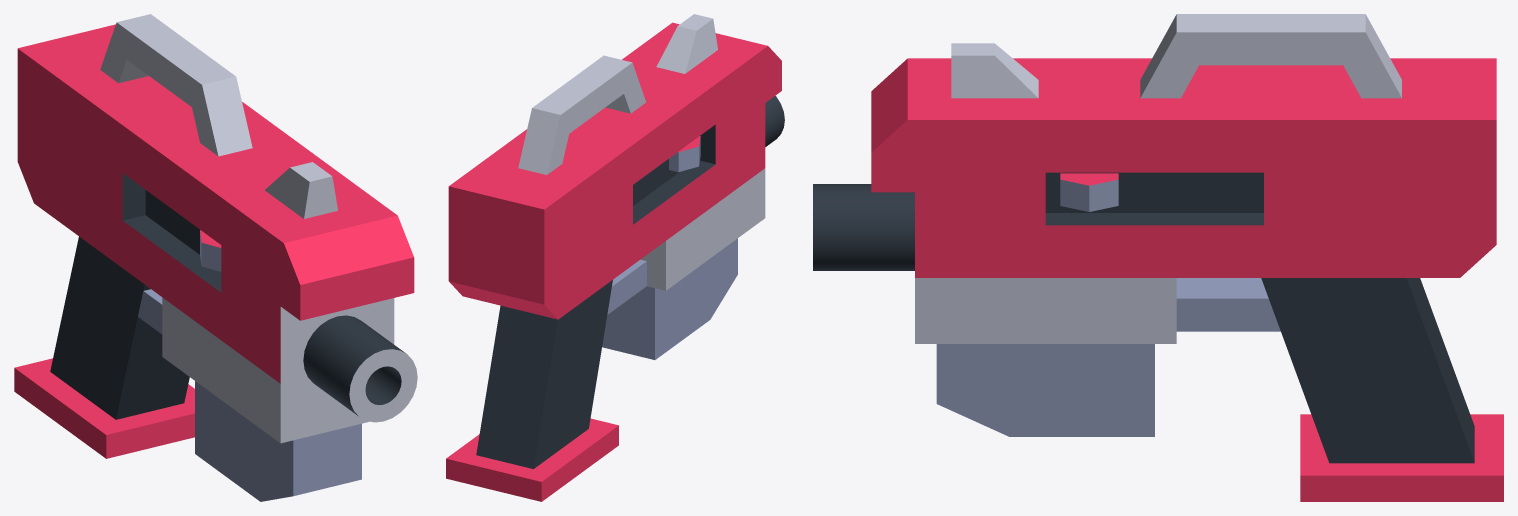
The model's file is blasterC.glb.
3 views of the same model, side by side, from view 1: azimuth 30°, elevation 25°; view 2: azimuth 150°, elevation 25°; view 3: azimuth 270°, elevation 25° (orthographic). The views are drawn at different scales.
Visible parts, largest first — view 1: blasterC; view 2: blasterC; view 3: blasterC.
Part boxes in pixels (left/top/right/bottom): blasterC: left=14, top=14, right=417, bottom=501; blasterC: left=446, top=14, right=784, bottom=501; blasterC: left=813, top=14, right=1503, bottom=501.
Size of the model in its own units: 0.1 by 0.34 by 0.475.
